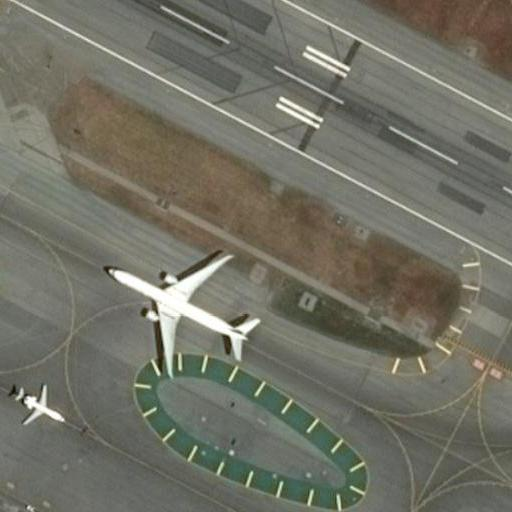Aircraft: (106, 240, 260, 375), (6, 380, 61, 429)
